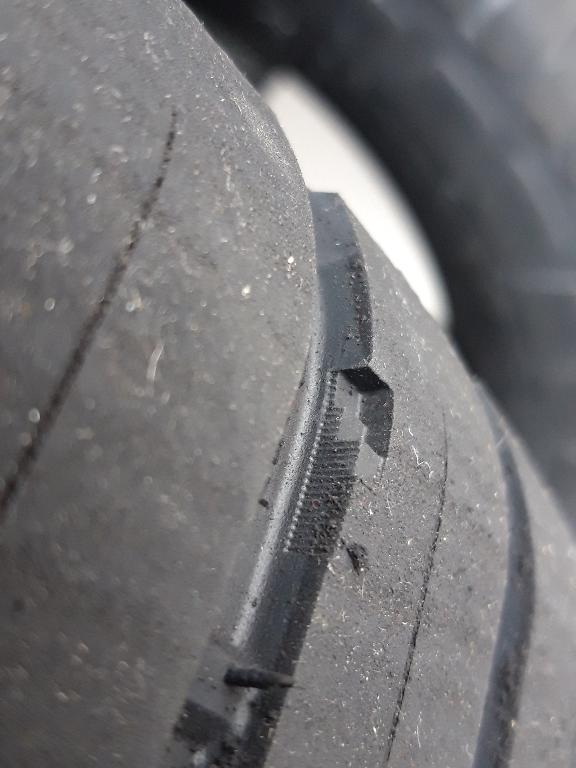temoin:50: (305, 360, 400, 500)
